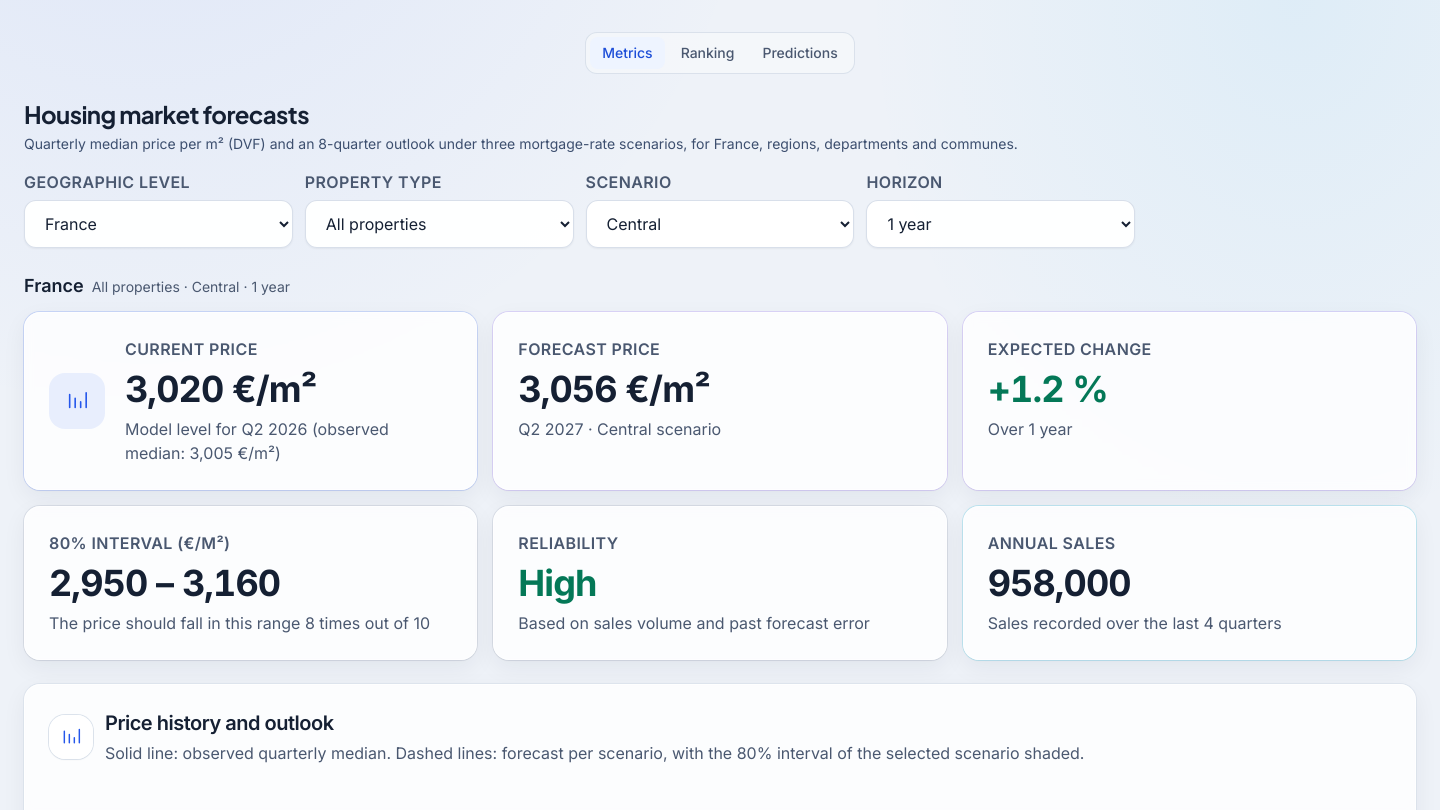
Test case: ForecastDashboard › switches KPIs to the 2-year horizon
Select "2 years" in the dropdown labelled "Horizon" at (1001, 224), box x1=866 y1=200 x2=1135 y2=248
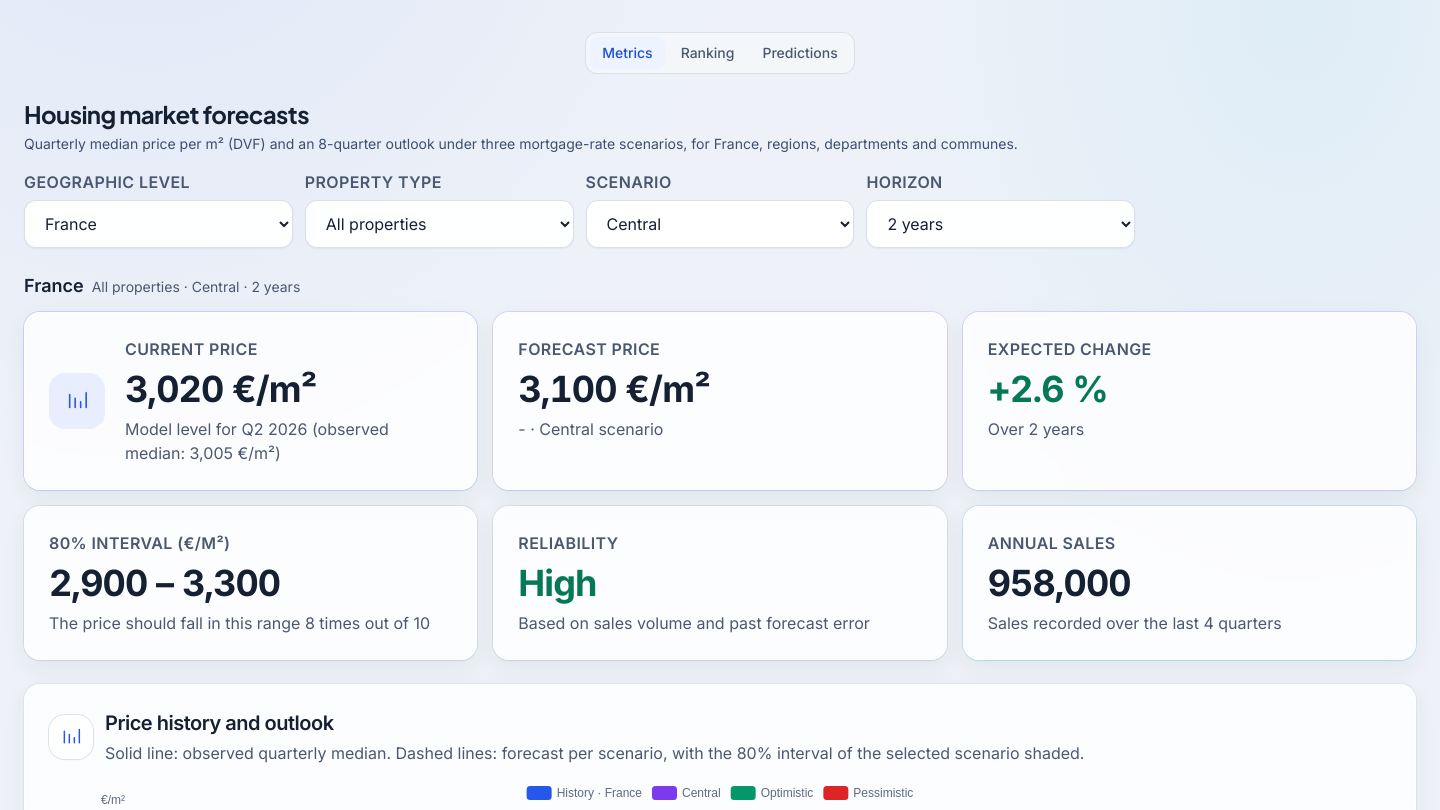
Expected: the text "3,100 €/m²" is shown, x1=518 y1=367 x2=710 y2=411
Expected: the text "+2.6 %" is shown, x1=988 y1=367 x2=1108 y2=411
